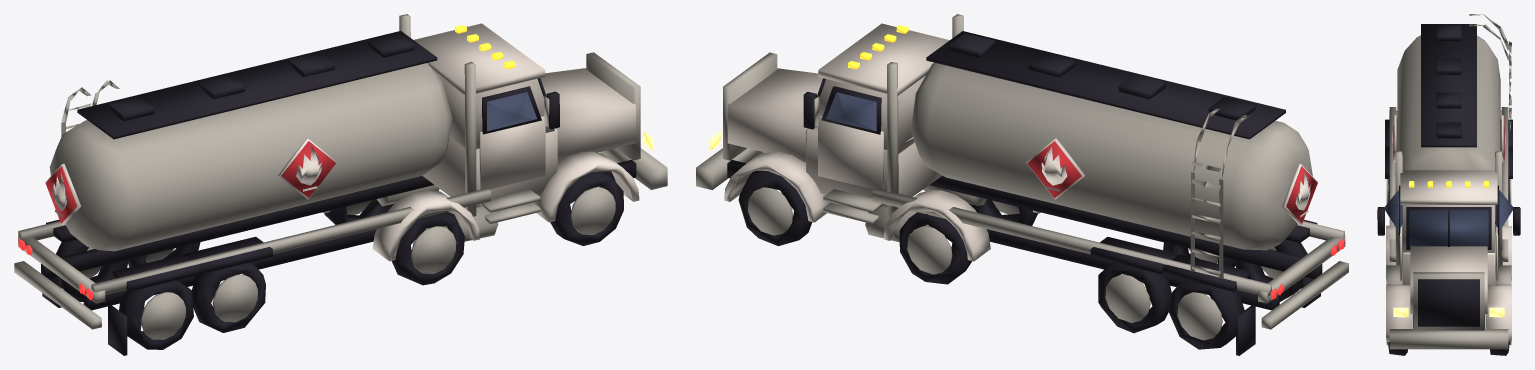
3 views of the same model, side by side, from view 1: azimuth 30°, elevation 25°; view 2: azimuth 150°, elevation 25°; view 3: azimuth 270°, elevation 25° (orthographic). The views are drawn at different scales.
Parts seen in each view (by area): view 1: body_pal_silver_lod2, body_pal_uiDark_lod2, body_pal_picketWhite_lod2, doorL_pal_picketWhite_lod2, wheelM2L_pal_uiDark_lod2, wheelFL_pal_uiDark_lod2, wheelRL_pal_uiDark_lod2, wheelM1L_pal_uiDark_lod2, body_pal_survivorRed_lod2, wheelM1L_pal_silver_lod2, wheelRL_pal_silver_lod2, wheelM2L_pal_silver_lod2 (+5 smaller); view 2: body_pal_silver_lod2, body_pal_uiDark_lod2, body_pal_picketWhite_lod2, doorR_pal_picketWhite_lod2, wheelM2R_pal_uiDark_lod2, wheelFR_pal_uiDark_lod2, wheelRR_pal_uiDark_lod2, wheelM1R_pal_uiDark_lod2, body_pal_survivorRed_lod2, wheelM2R_pal_silver_lod2, wheelFR_pal_silver_lod2, wheelM1R_pal_silver_lod2 (+5 smaller); view 3: body_pal_silver_lod2, body_pal_uiDark_lod2, body_pal_picketWhite_lod2, body_pal_denim_lod2, doorR_pal_denim_lod2, doorL_pal_denim_lod2, doorR_pal_uiDark_lod2, doorL_pal_uiDark_lod2, body_emi_schoolBusYellow_lod2, headlampR_emi_windowGlow_lod2, lightsFront_emi_windowGlow_lod2, body_pal_survivorRed_lod2 (+2 smaller).
Boxes of the visible parts, box(x1,y1,x2,y2) form: body_pal_silver_lod2: box(14, 14, 667, 329); body_pal_uiDark_lod2: box(41, 31, 636, 355); body_pal_picketWhite_lod2: box(45, 23, 639, 261); doorL_pal_picketWhite_lod2: box(479, 116, 545, 189); wheelM2L_pal_uiDark_lod2: box(192, 262, 265, 332); wheelFL_pal_uiDark_lod2: box(550, 171, 623, 245); wheelRL_pal_uiDark_lod2: box(119, 280, 193, 349); wheelM1L_pal_uiDark_lod2: box(391, 211, 464, 285); body_pal_survivorRed_lod2: box(45, 141, 335, 223); wheelM1L_pal_silver_lod2: box(411, 226, 456, 273); wheelRL_pal_silver_lod2: box(141, 292, 185, 339); wheelM2L_pal_silver_lod2: box(212, 274, 257, 322); body_pal_silver_lod2: box(696, 14, 1348, 329); body_pal_uiDark_lod2: box(727, 31, 1322, 355); body_pal_picketWhite_lod2: box(724, 23, 1317, 261); doorR_pal_picketWhite_lod2: box(818, 116, 883, 189); wheelM2R_pal_uiDark_lod2: box(1098, 262, 1171, 333); wheelFR_pal_uiDark_lod2: box(738, 170, 812, 246); wheelRR_pal_uiDark_lod2: box(1168, 280, 1244, 349); wheelM1R_pal_uiDark_lod2: box(899, 212, 972, 284); body_pal_survivorRed_lod2: box(1027, 141, 1317, 223); wheelM2R_pal_silver_lod2: box(1105, 274, 1150, 322); wheelFR_pal_silver_lod2: box(748, 187, 792, 235); wheelM1R_pal_silver_lod2: box(907, 226, 952, 274); body_pal_silver_lod2: box(1386, 14, 1511, 349); body_pal_uiDark_lod2: box(1385, 24, 1512, 328); body_pal_picketWhite_lod2: box(1386, 115, 1511, 341); body_pal_denim_lod2: box(1409, 210, 1488, 247); doorR_pal_denim_lod2: box(1495, 190, 1513, 230); doorL_pal_denim_lod2: box(1384, 190, 1402, 230); doorR_pal_uiDark_lod2: box(1497, 185, 1520, 235); doorL_pal_uiDark_lod2: box(1377, 185, 1400, 235); body_emi_schoolBusYellow_lod2: box(1409, 181, 1488, 187); headlampR_emi_windowGlow_lod2: box(1489, 307, 1504, 317); lightsFront_emi_windowGlow_lod2: box(1393, 307, 1408, 317); body_pal_survivorRed_lod2: box(1393, 117, 1504, 160).
Size of the model in its own units: 11.18 by 4.17 by 3.15.
